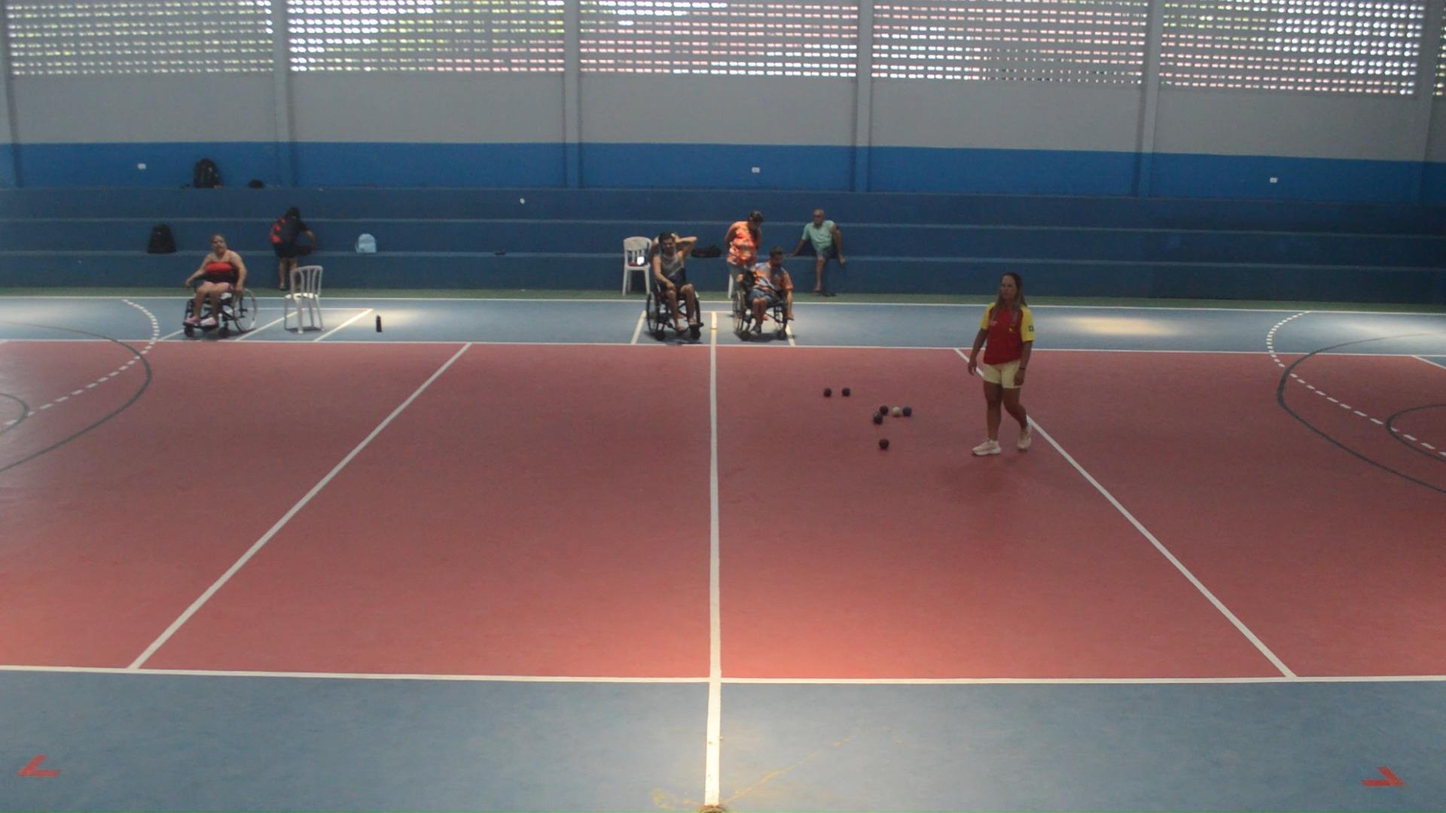blue_ball: (902, 406, 912, 416)
red_ball: (879, 438, 889, 449), (879, 405, 889, 416), (874, 413, 882, 424), (842, 387, 850, 397), (823, 388, 832, 396)
white_ball: (891, 406, 902, 417)
